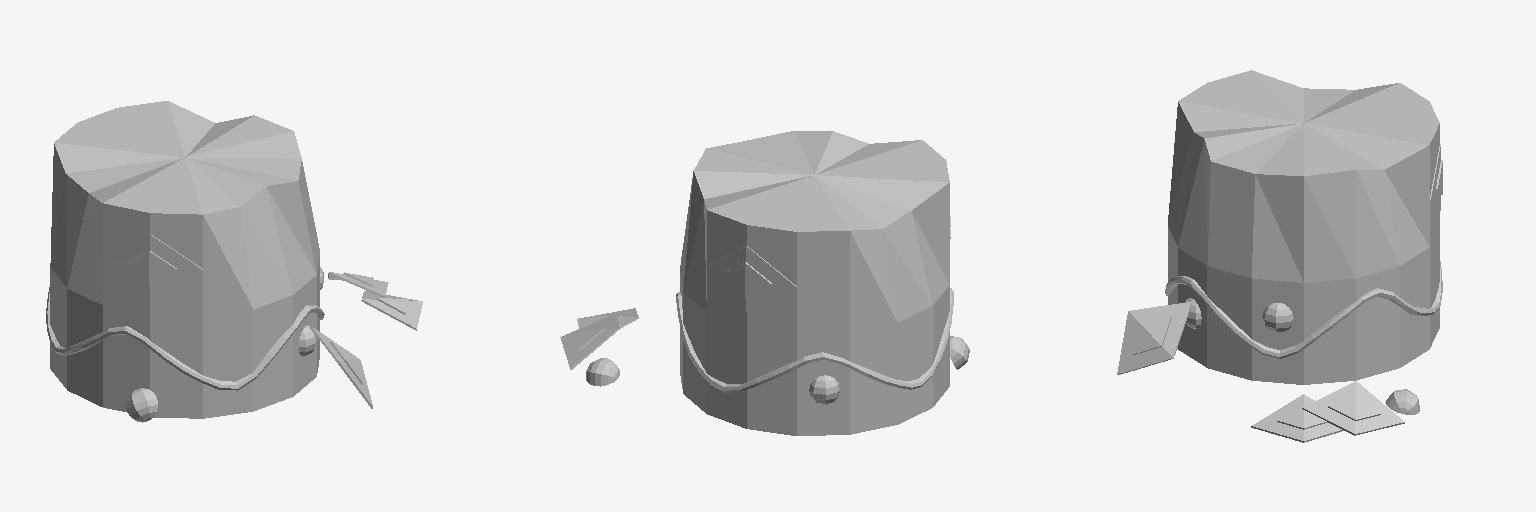
The model's file is nativeAmerican_tower_base_d3.obj.
3 views of the same model, side by side, from view 1: azimuth 30°, elevation 25°; view 2: azimuth 150°, elevation 25°; view 3: azimuth 270°, elevation 25° (orthographic).
Visible parts, largest first — view 1: Base, Diamonds, Stripe, Balls; view 2: Base, Diamonds, Stripe, Balls; view 3: Base, Diamonds, Stripe, Balls.
Boxes of the visible parts, box(x1,y1,x2,y2) form: Base: box(50, 101, 319, 418); Diamonds: box(102, 234, 422, 408); Stripe: box(46, 287, 324, 390); Balls: box(125, 267, 323, 422); Base: box(680, 131, 949, 435); Diamonds: box(560, 216, 950, 369); Stripe: box(676, 288, 953, 392); Balls: box(586, 336, 969, 404); Base: box(1168, 70, 1439, 384); Diamonds: box(1117, 144, 1442, 442); Stripe: box(1165, 261, 1442, 358); Balls: box(1184, 298, 1419, 414).
Bounding box in the file's own units: 11.73 × 6.51 × 9.24.